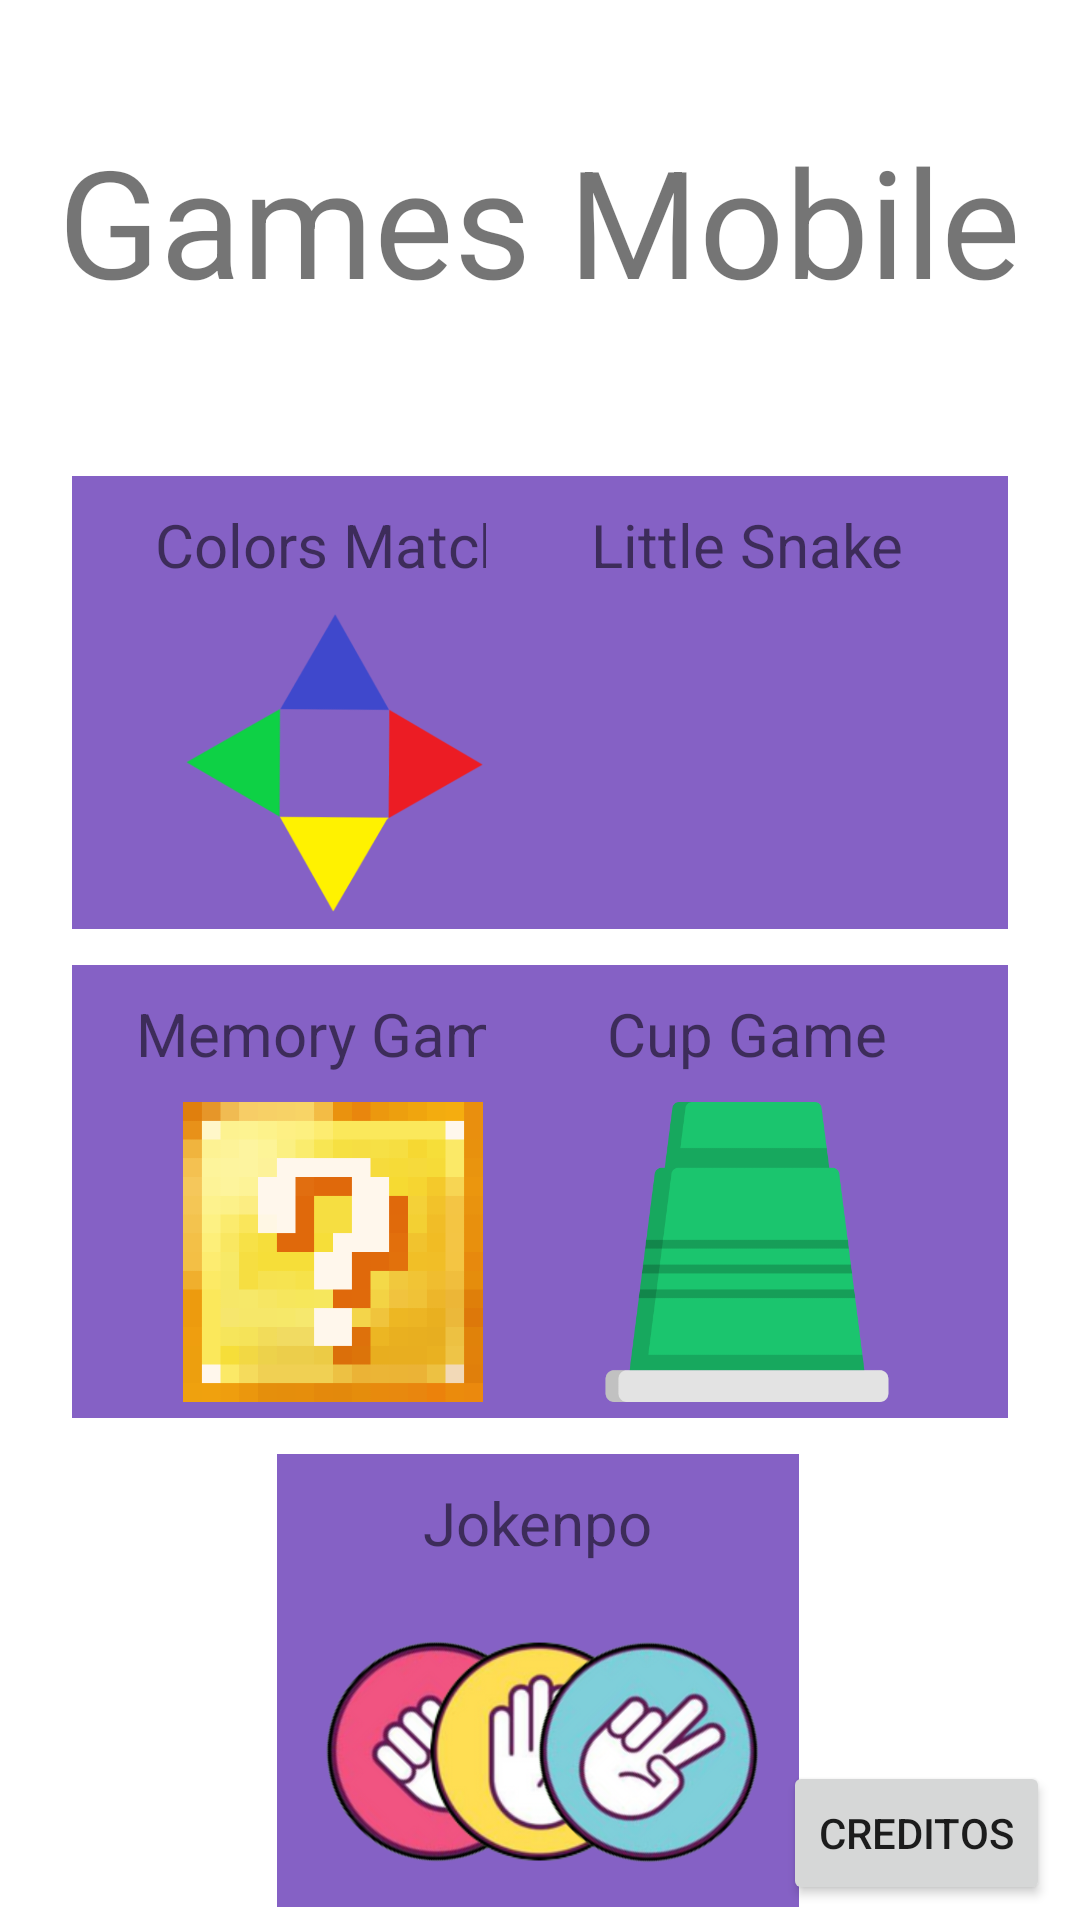

Where icons sit on this 1080x1920 app screen, as region(x1, y1, x2, y2):
copoplasticovirado: region(605, 1102, 889, 1402)
interroga: region(183, 1102, 483, 1402)
